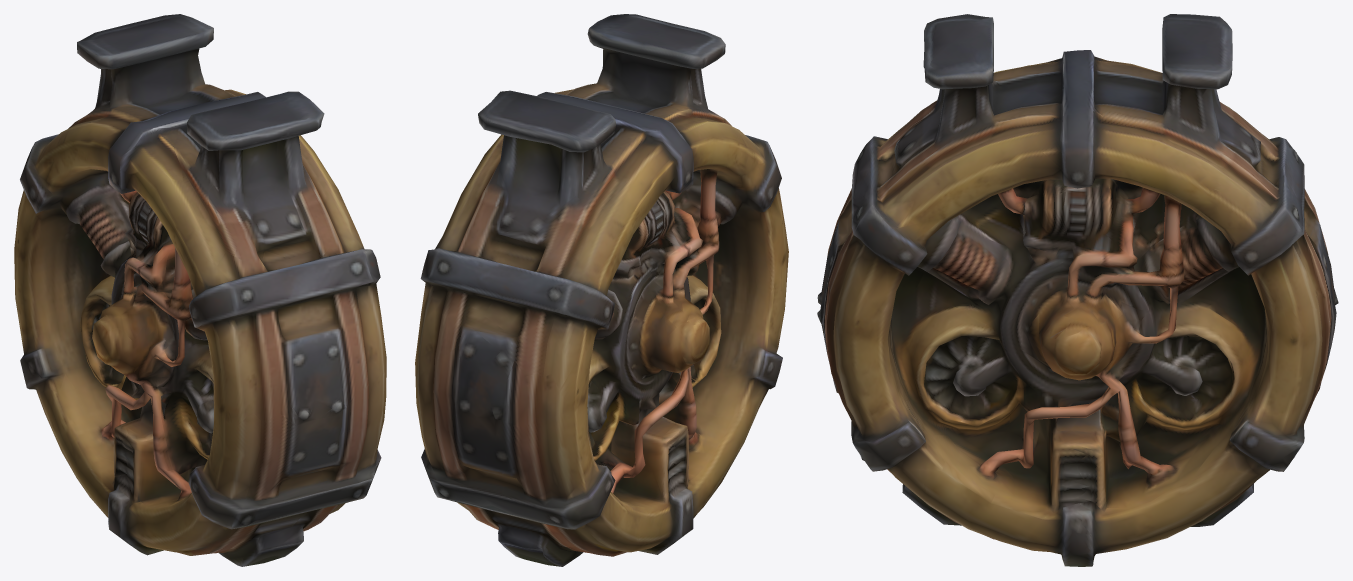
Rendered from Brasswake underside turn engine cluster.glb.
3 views of the same model, side by side, from view 1: azimuth 30°, elevation 25°; view 2: azimuth 150°, elevation 25°; view 3: azimuth 270°, elevation 25° (orthographic). The views are drawn at different scales.
Visible parts, largest first — view 1: MechanicalWheel; view 2: MechanicalWheel; view 3: MechanicalWheel.
Part boxes in pixels (x1,y1,x2,y2): MechanicalWheel: (14,14,386,566); MechanicalWheel: (415,14,788,566); MechanicalWheel: (817,14,1338,566).
Size of the model in its own units: 0.3621 by 0.8 by 0.7673.
1 material, 1 textured.
